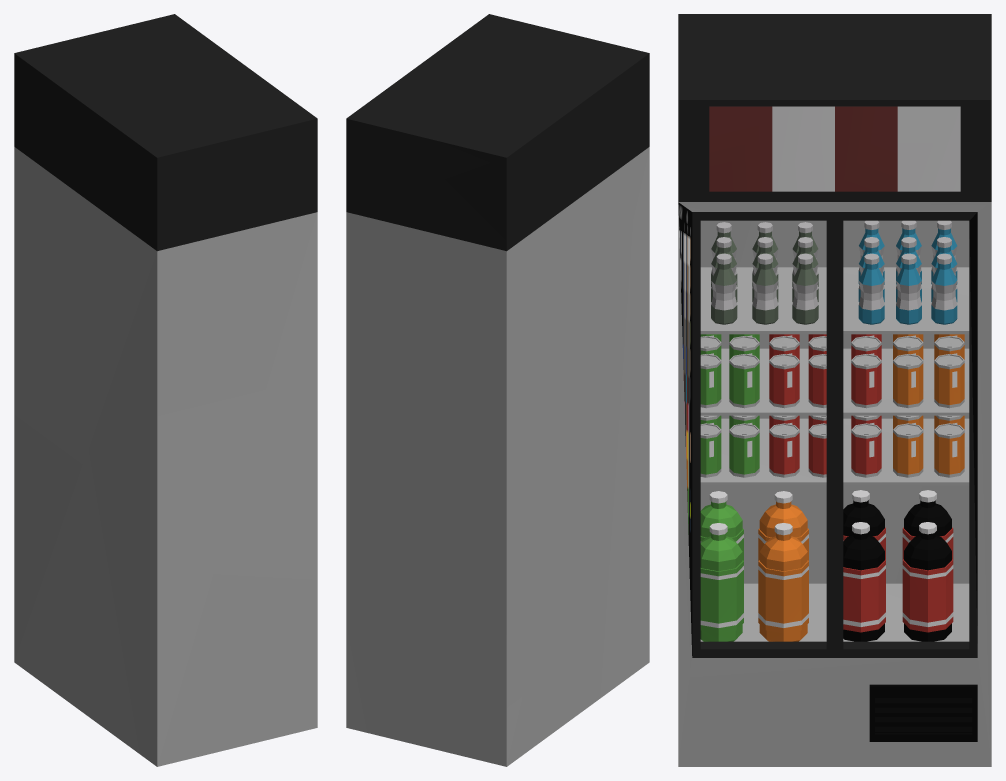
Rendered from SM_shopFreezer_04.glb.
3 renders of one model, left to right at view 1: azimuth 30°, elevation 25°; view 2: azimuth 150°, elevation 25°; view 3: azimuth 270°, elevation 25°, orthographic. The views are drawn at different scales.
Parts seen in each view (by area): view 1: SM_shopFreezer_04; view 2: SM_shopFreezer_04; view 3: SM_shopFreezer_04.
Part boxes in pixels (bbox=[...]): SM_shopFreezer_04: bbox=[14, 14, 317, 766]; SM_shopFreezer_04: bbox=[346, 14, 649, 766]; SM_shopFreezer_04: bbox=[678, 14, 991, 766].
Bounding box in the file's own units: 0.6614 × 2.34 × 0.9968.
Materials: 1 (1 with a texture image).
